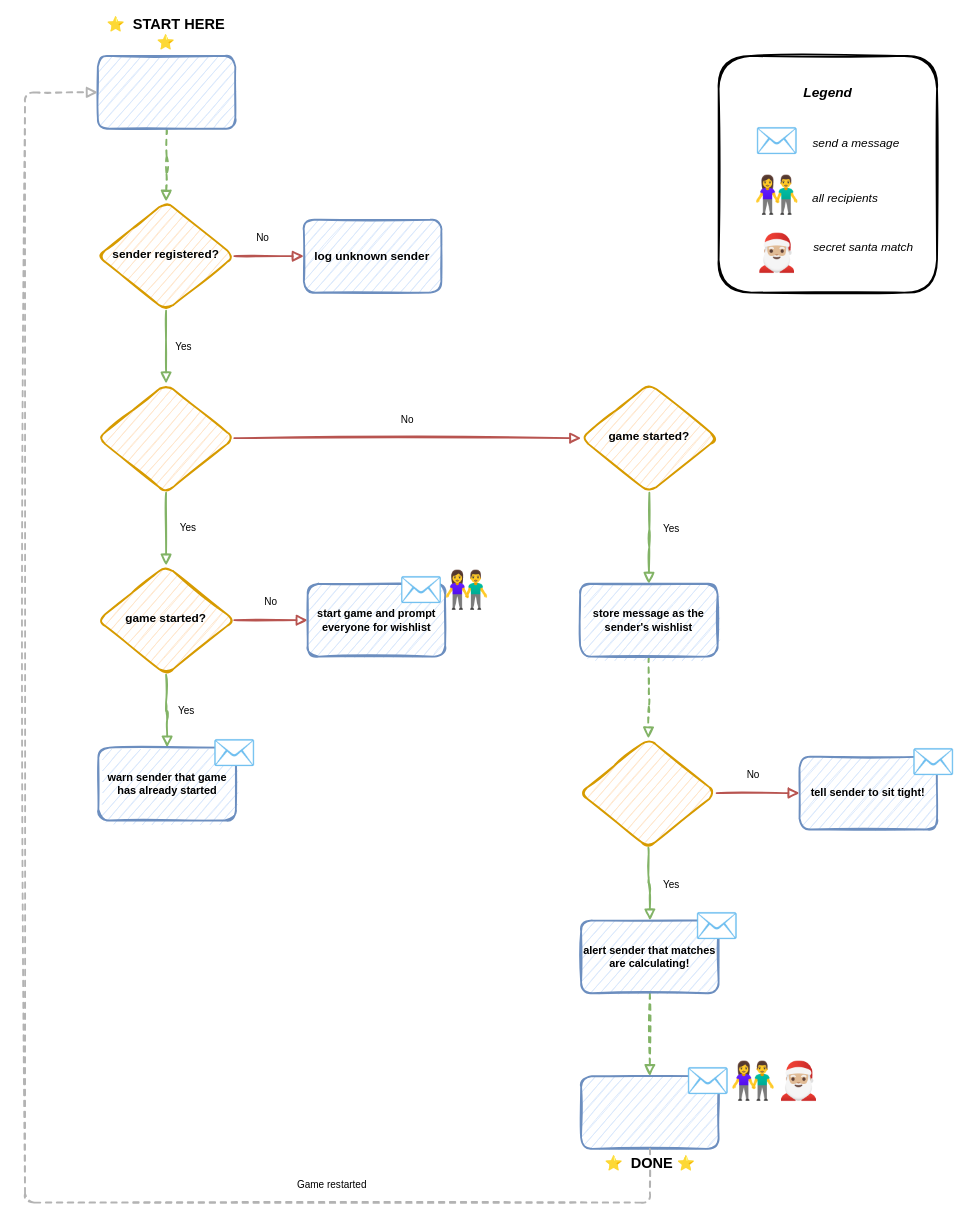
Some shapes in this 976 by 1228 pixel diagram are drawn without their labels. Each missing label, with the centre of its shape:
"all recipients enter wishlist?" belongs at pixel 648 792.
"message == start trigger?" belongs at pixel 165 437.
"message all Secret Santas with wishlist + budget" belongs at pixel 649 1112.
"message received" belongs at pixel 166 92.
